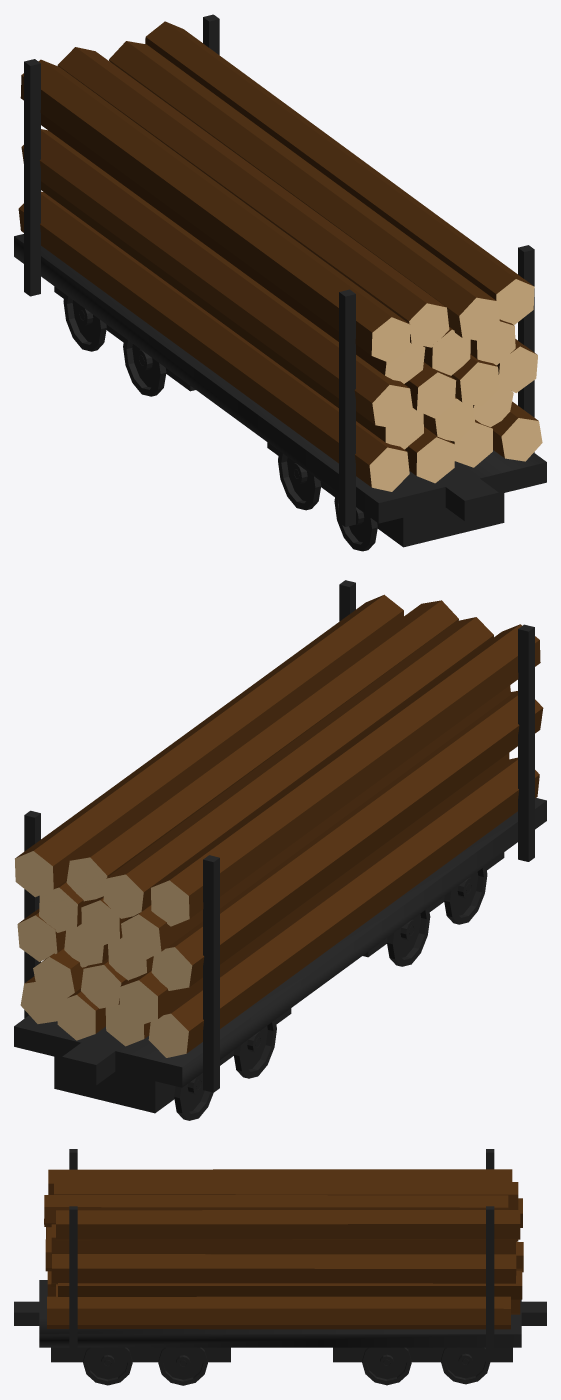
File: cabin Two_0330.fbx
3 renders of one model, top to bottom at view 1: azimuth 30°, elevation 25°; view 2: azimuth 150°, elevation 25°; view 3: azimuth 270°, elevation 25°, orthographic. The views are drawn at different scales.
Visible parts, largest first — view 1: Circle.017, Circle.007, Circle, Circle.015, cabin set, Circle.016, Circle.014, Circle.013, Circle.006, cabin set6, cabin set4, cabin set1 (+15 smaller); view 2: Circle.017, Circle.007, Circle, Circle.015, Circle.016, Circle.014, cabin set, Circle.013, Circle.006, cabin set6, cabin set4, cabin set2 (+15 smaller); view 3: Circle.003, Circle.014, Circle.010, cabin set, Circle.015, Circle.011, Circle.004, Circle.016, Circle.017, wheel 2, wheel 1, wheel 3 (+5 smaller).
Part boxes in pixels (x1,y1,x2,y2): Circle.017: (20, 59, 410, 363); Circle.007: (21, 129, 412, 428); Circle: (18, 191, 409, 491); Circle.015: (109, 41, 499, 341); cabin set: (14, 234, 546, 523); Circle.016: (57, 47, 449, 347); Circle.014: (145, 21, 534, 324); Circle.013: (41, 113, 425, 383); Circle.006: (41, 181, 423, 449); cabin set6: (24, 59, 40, 296); cabin set4: (339, 289, 355, 526); cabin set1: (267, 442, 504, 547); Circle.017: (151, 624, 540, 926); Circle.007: (151, 691, 543, 990); Circle: (148, 757, 539, 1057); Circle.015: (66, 600, 458, 901); Circle.016: (103, 617, 493, 918); Circle.014: (15, 594, 403, 897); cabin set: (14, 798, 546, 1087); Circle.013: (121, 685, 510, 960); Circle.006: (119, 753, 509, 1025); cabin set6: (203, 855, 219, 1092); cabin set4: (518, 624, 534, 861); cabin set2: (54, 1008, 291, 1113); Circle.003: (47, 1296, 510, 1329); Circle.014: (56, 1210, 520, 1240); Circle.010: (52, 1254, 516, 1283); cabin set: (14, 1280, 546, 1347); Circle.015: (44, 1195, 508, 1226); Circle.011: (51, 1224, 515, 1254); Circle.004: (58, 1268, 522, 1299); Circle.016: (54, 1182, 518, 1209); Circle.017: (48, 1169, 512, 1194); wheel 2: (158, 1347, 207, 1385); wheel 1: (83, 1347, 132, 1385); wheel 3: (362, 1347, 411, 1385).
Bounding box in the file's own units: 563 × 807 × 2073.
